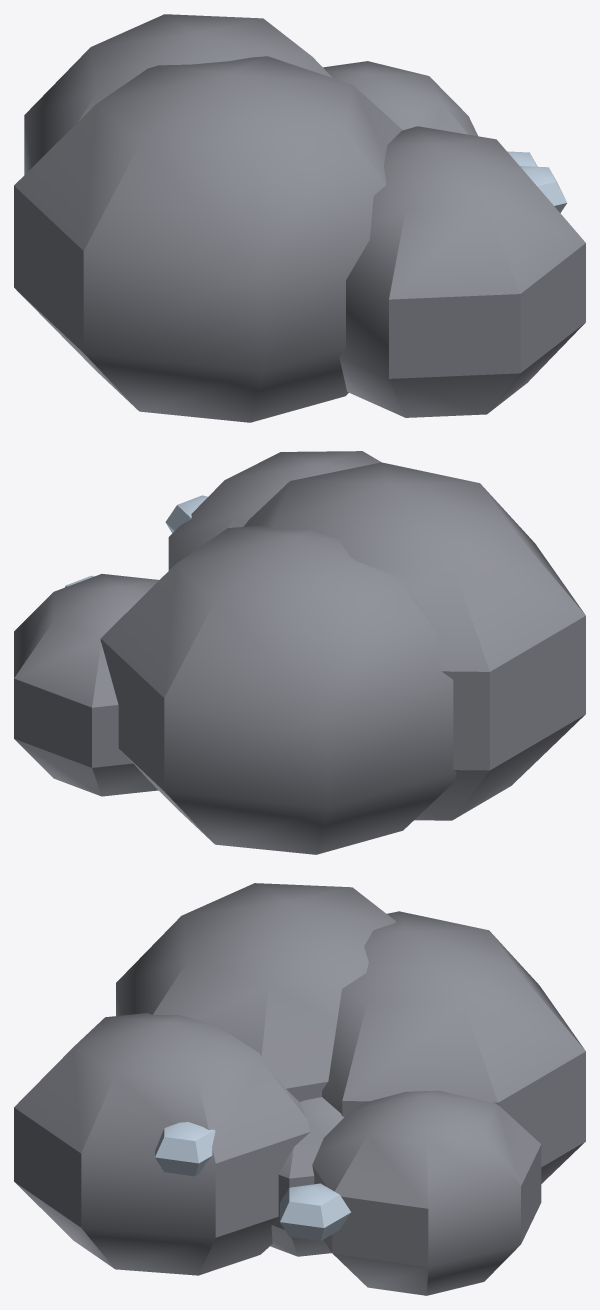
Rendered from rock_skysteel.gltf.
The picture shows the model from 3 angles, top to bottom: view 1: azimuth 30°, elevation 25°; view 2: azimuth 150°, elevation 25°; view 3: azimuth 270°, elevation 25°; orthographic projection. The views are drawn at different scales.
Visible parts, largest first — view 1: Body; view 2: Body; view 3: Body.
Boxes of the visible parts, bbox=[...] form: Body: bbox=[14, 14, 585, 422]; Body: bbox=[14, 451, 585, 854]; Body: bbox=[14, 883, 585, 1295].
Bounding box in the file's own units: 1.38 × 0.864 × 1.45.
